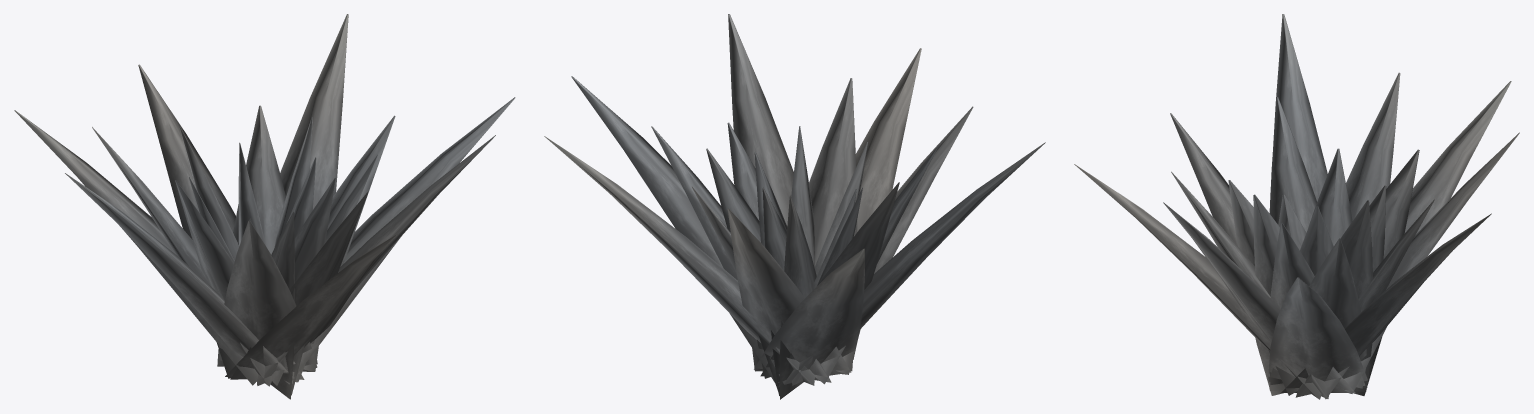
File: rosette_big_l0.gltf
The picture shows the model from 3 angles, left to right: view 1: azimuth 30°, elevation 25°; view 2: azimuth 150°, elevation 25°; view 3: azimuth 270°, elevation 25°; orthographic projection. The views are drawn at different scales.
Parts seen in each view (by area): view 1: rosette_big_l0; view 2: rosette_big_l0; view 3: rosette_big_l0.
Boxes of the visible parts, bbox=[...] form: rosette_big_l0: bbox=[14, 14, 515, 399]; rosette_big_l0: bbox=[544, 14, 1045, 399]; rosette_big_l0: bbox=[1074, 14, 1519, 399].
Size of the model in its own units: 2.35 by 1.36 by 1.99.
Materials: 1 (1 with a texture image).
